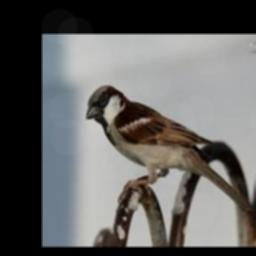Sparrow: (87, 86, 252, 214)
